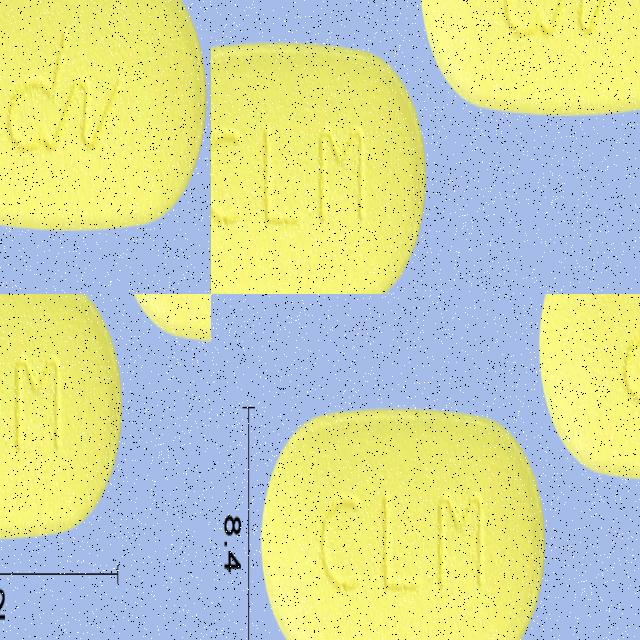Cirok: (119, 294, 211, 545), (0, 294, 89, 549)
Clacid - 250mg: (0, 0, 210, 221)
Clamicin: (260, 406, 547, 640), (211, 40, 428, 294), (418, 0, 640, 121), (537, 294, 640, 487)
